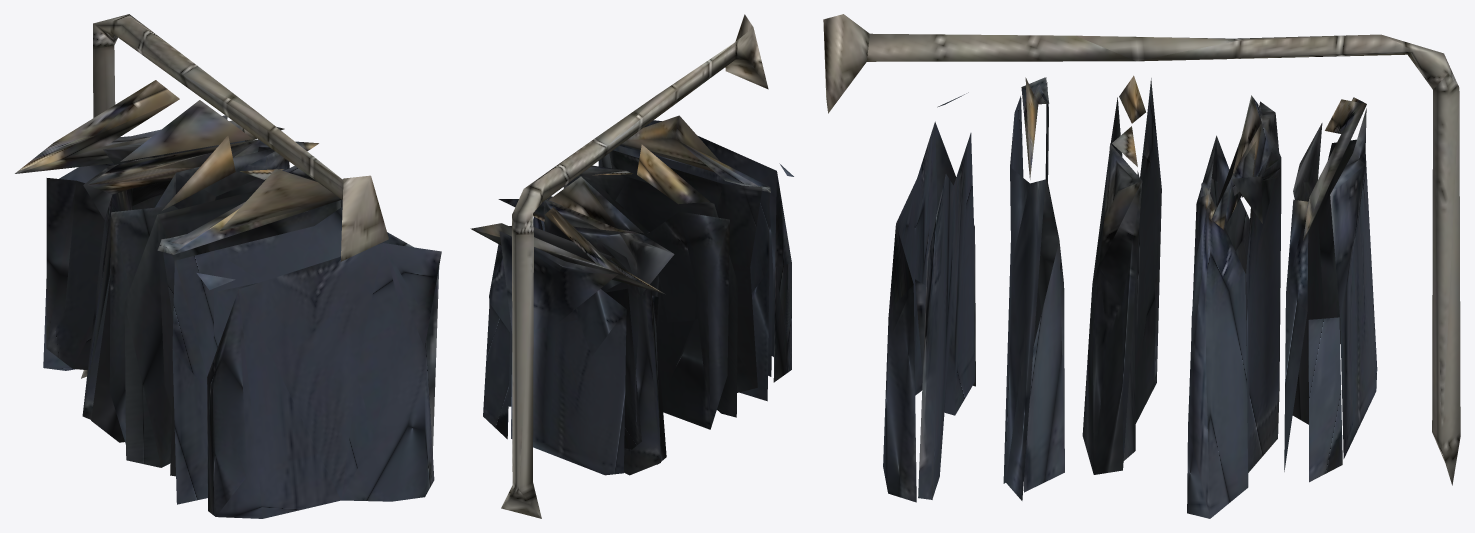
File: tripo_convert_dec38720-83d6-433b-9a84-41ab59da7091.fbx
The picture shows the model from 3 angles, left to right: view 1: azimuth 30°, elevation 25°; view 2: azimuth 150°, elevation 25°; view 3: azimuth 270°, elevation 25°; orthographic projection. The views are drawn at different scales.
Visible parts, largest first — view 1: tripo_node_dec38720; view 2: tripo_node_dec38720; view 3: tripo_node_dec38720.
Boxes of the visible parts, x1,y1,x2,y2 form: tripo_node_dec38720: [15, 14, 441, 518]; tripo_node_dec38720: [470, 14, 793, 518]; tripo_node_dec38720: [823, 14, 1460, 518].
Bounding box in the file's own units: 0.5288 × 0.7848 × 0.9846.
1 material, 1 textured.
